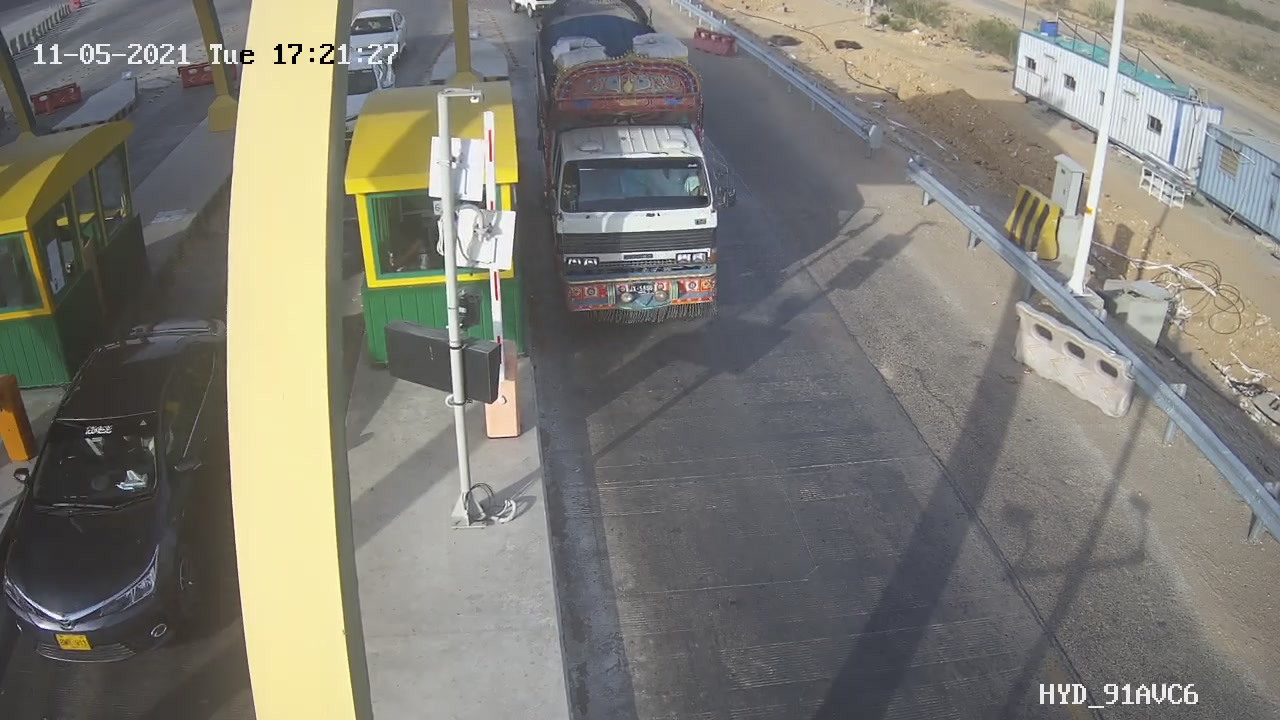F5: (518, 1, 761, 351)
